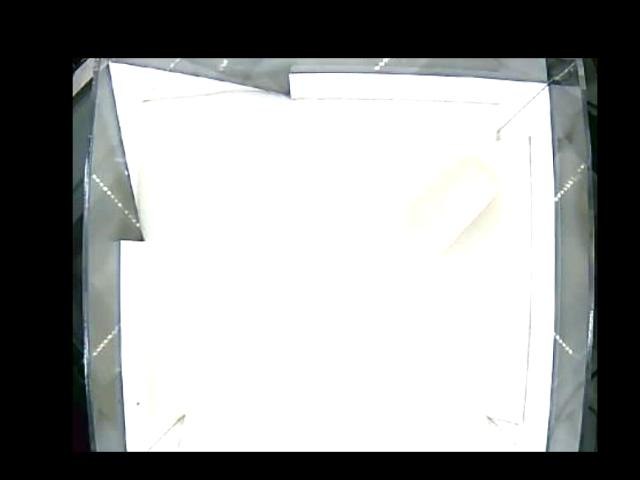Mooli: (395, 158, 497, 264)
